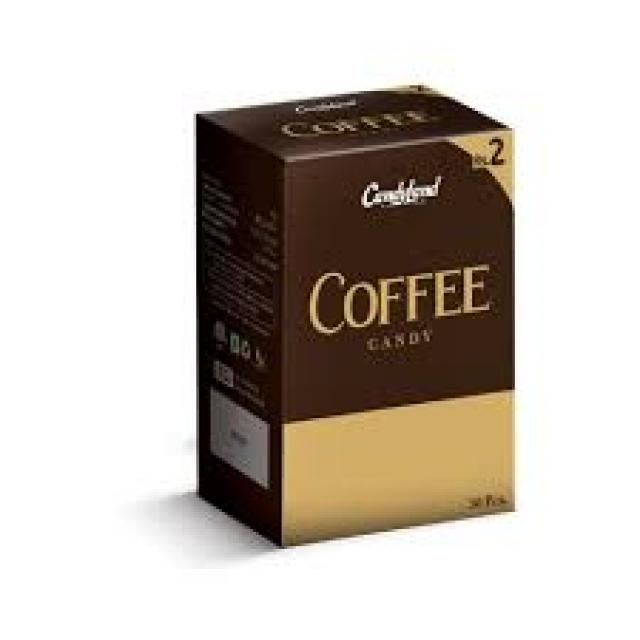Coffee: (196, 88, 518, 552)
